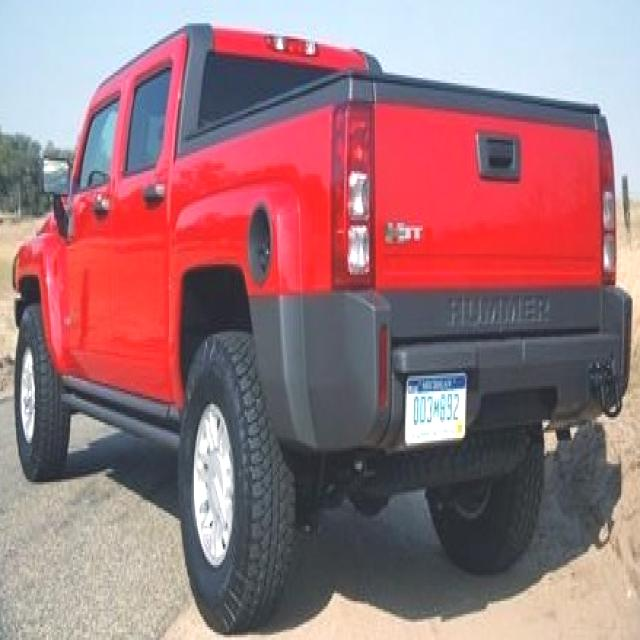CMT: (11, 16, 618, 620)
